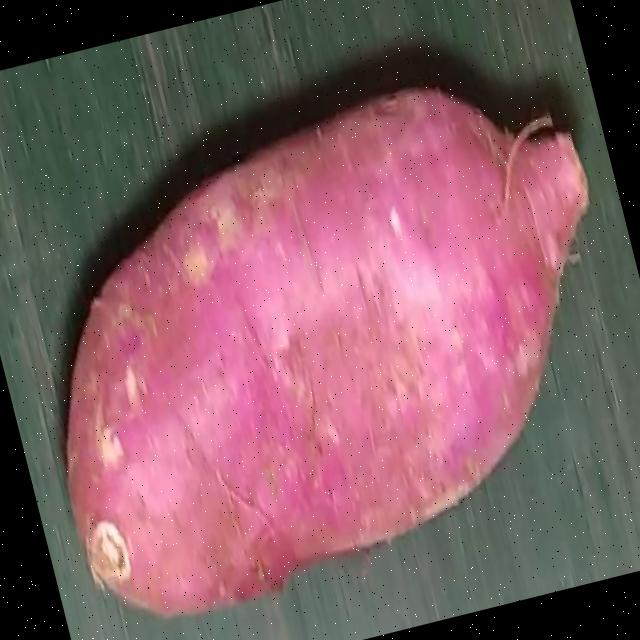Sweet Potato: (61, 83, 587, 620)
